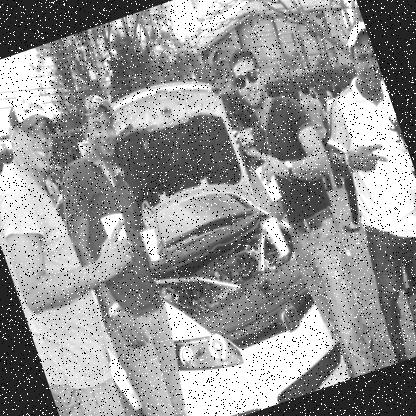Car: (27, 43, 384, 415), (383, 273, 415, 361), (236, 127, 268, 178), (0, 208, 13, 270)
